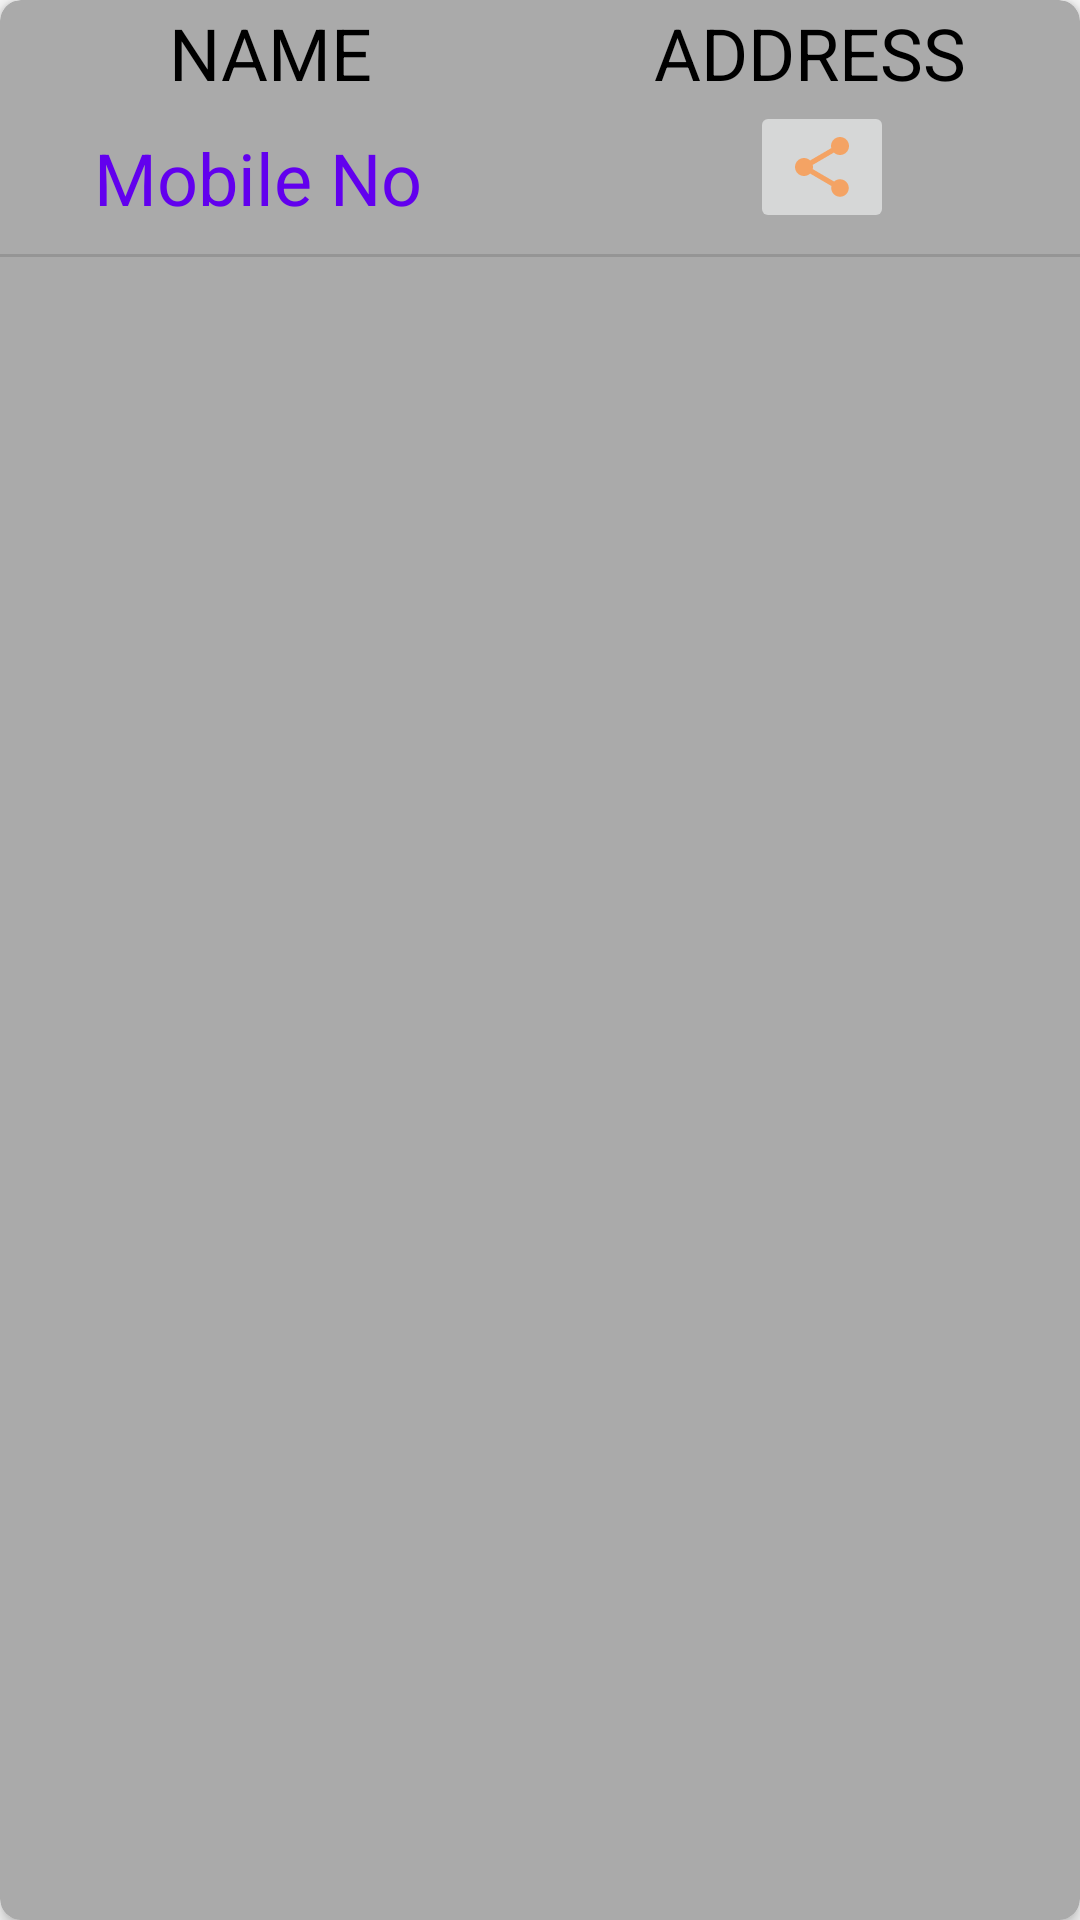

Icons on this 1080 × 1920 Android screen, each with the point to tap as (x,y):
Share Icon: (822,167)
